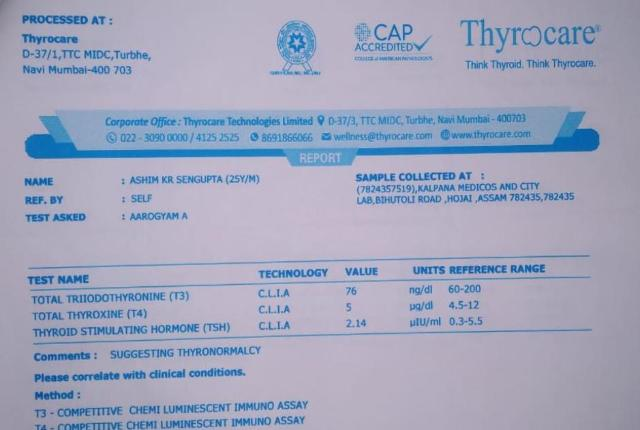Clinical_Conditions: (31, 404, 314, 429)
Name: (131, 173, 261, 186)
Ref_By: (129, 191, 155, 205)
Reference_Range: (448, 279, 488, 331)
Technology: (256, 286, 302, 336)
Test_Asked: (126, 210, 192, 225)
Test_Name: (30, 290, 238, 338)
Unit: (404, 281, 445, 332)
Value: (339, 282, 381, 334)
